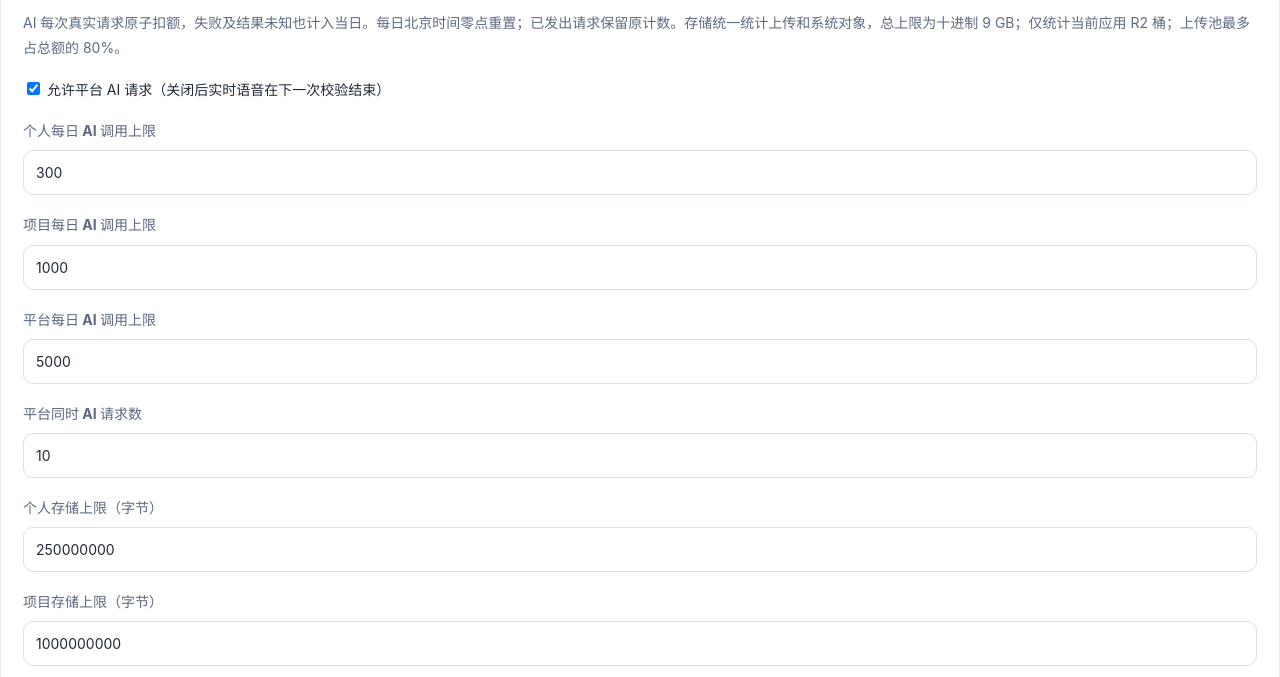
Scenario: saves the independent platform policy with expectedVersion and kill switch
Replace the text in the number field labelled "个人每日 AI 调用上限" with "250" at {"x": 640, "y": 173}, box x1=23 y1=150 x2=1257 y2=195
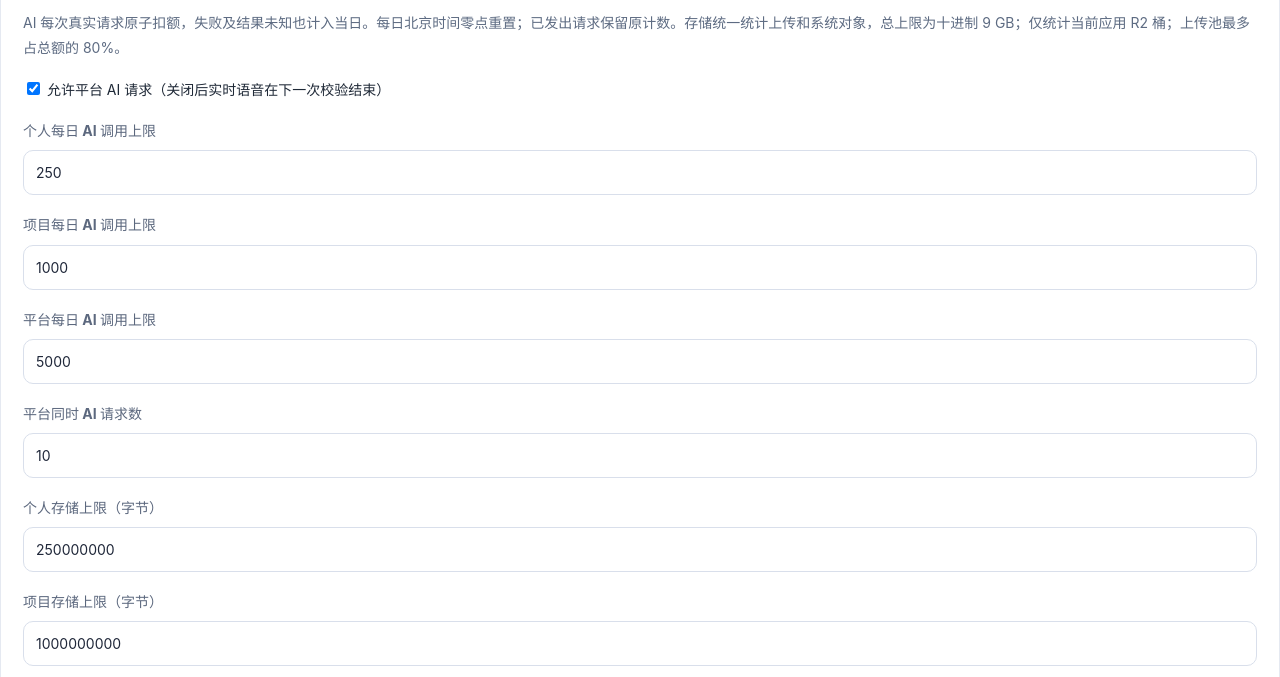
Click the checkbox labelled "允许平台 AI 请求（关闭后实时语音在下一次校验结束）" at {"x": 34, "y": 89}, box x1=27 y1=82 x2=40 y2=95
(page scrolled)
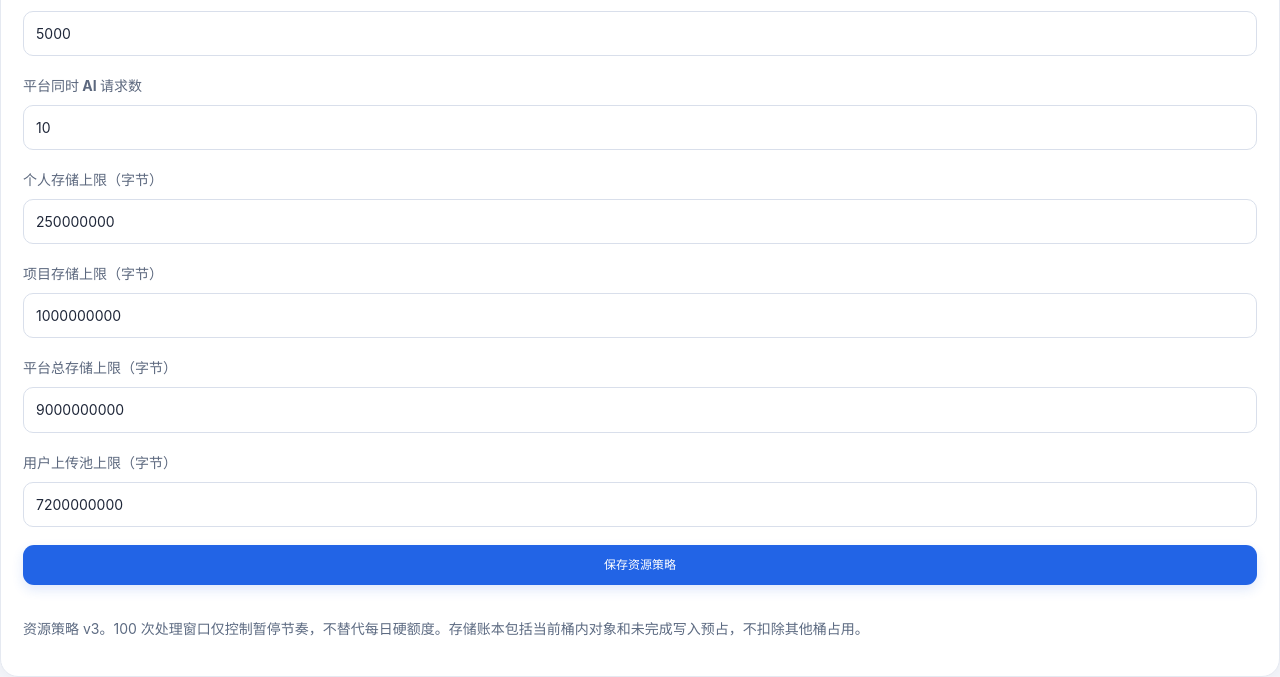
Click the button "保存资源策略" at {"x": 640, "y": 565}, box x1=23 y1=545 x2=1257 y2=585
(page scrolled)
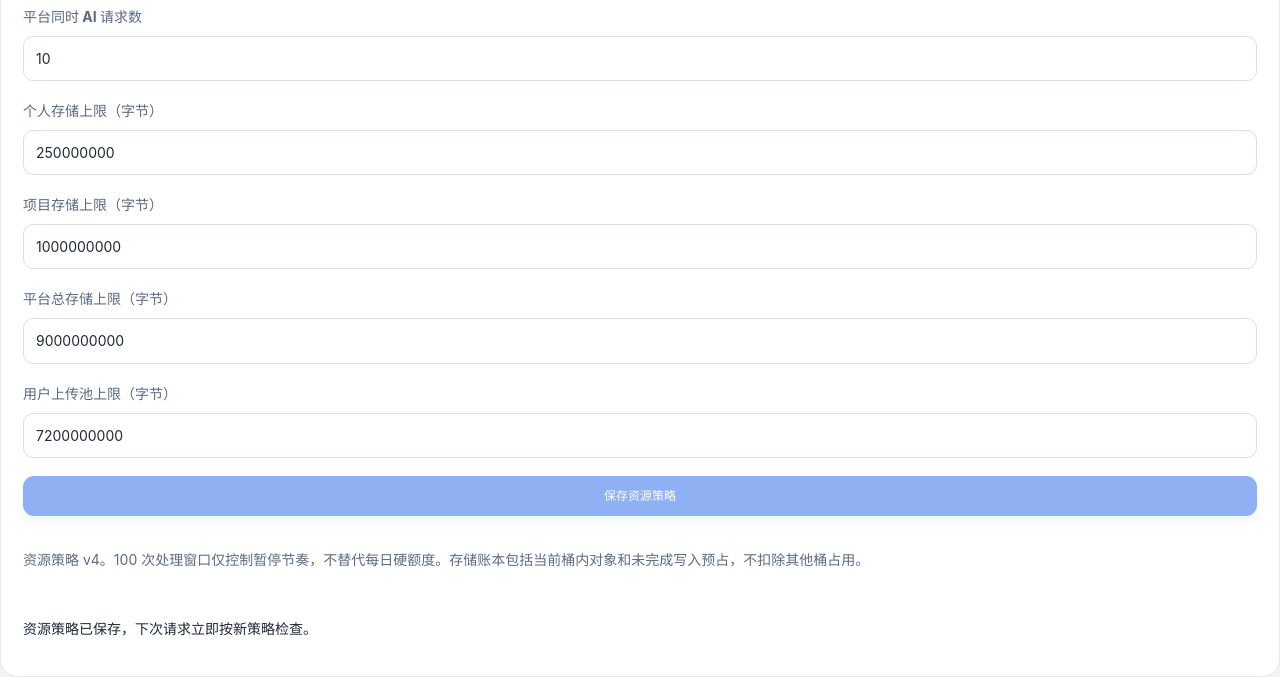
Now the text "资源策略已保存，下次请求立即按新策略检查。" is shown, box x1=23 y1=620 x2=317 y2=637
